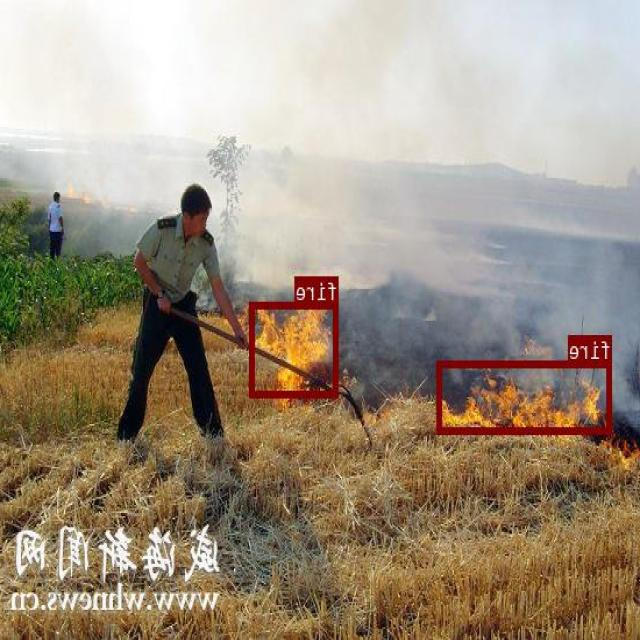fire: (438, 359, 612, 433), (251, 300, 339, 396)
